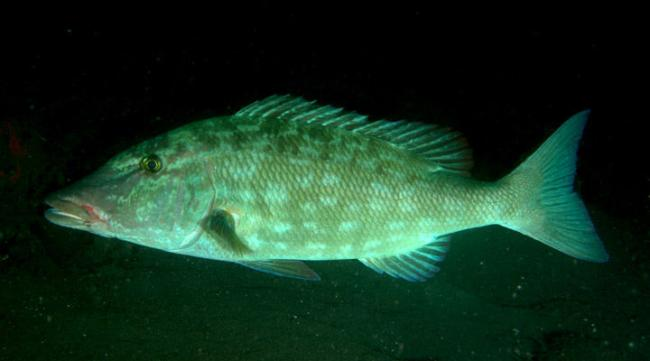fish: (45, 95, 613, 284)
